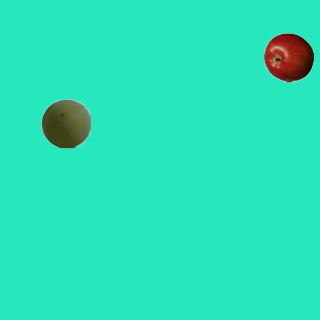Apple Braeburn: (263, 32, 313, 82)
Grape White 4: (40, 98, 90, 148)
